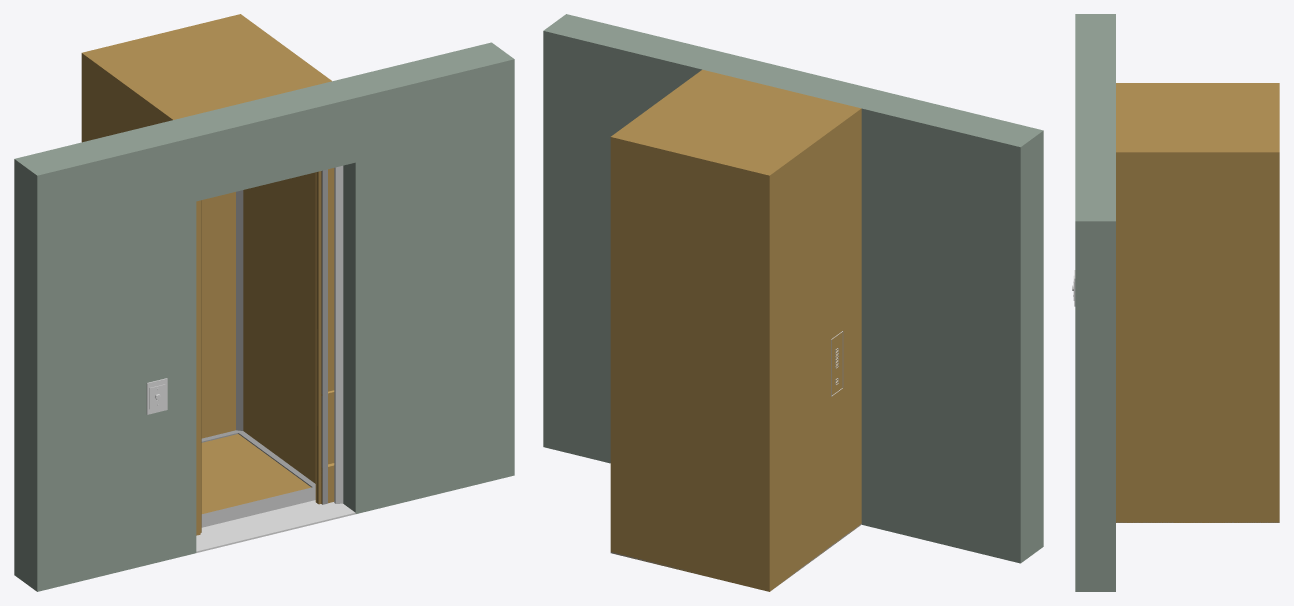
File: elevator_test_01.fbx
The picture shows the model from 3 angles, left to right: view 1: azimuth 30°, elevation 25°; view 2: azimuth 150°, elevation 25°; view 3: azimuth 270°, elevation 25°; orthographic projection. The views are drawn at different scales.
Visible parts, largest first — view 1: pPlane636; view 2: pPlane636; view 3: pPlane636.
Boxes of the visible parts, box(x1,y1,x2,y2) form: pPlane636: box(14, 14, 514, 591); pPlane636: box(543, 14, 1043, 591); pPlane636: box(1072, 14, 1279, 591).
Bounding box in the file's own units: 300 × 250 × 127.
